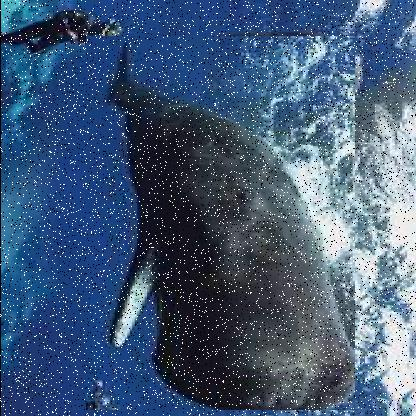sperm_whale: (84, 36, 354, 411)
